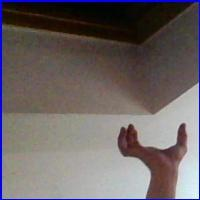space: (112, 117, 194, 170)
